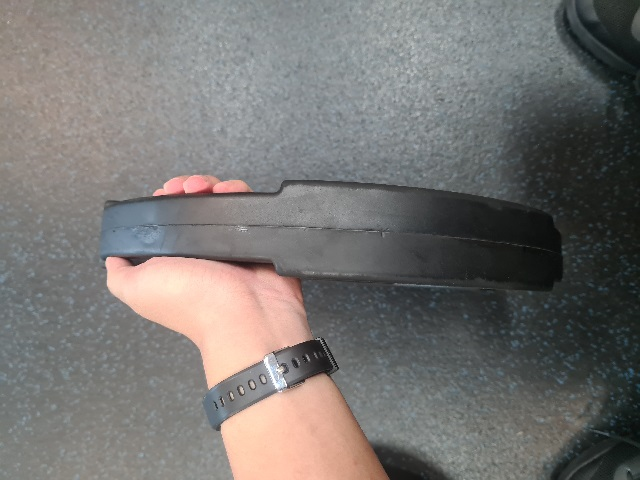weights: (99, 178, 564, 292)
